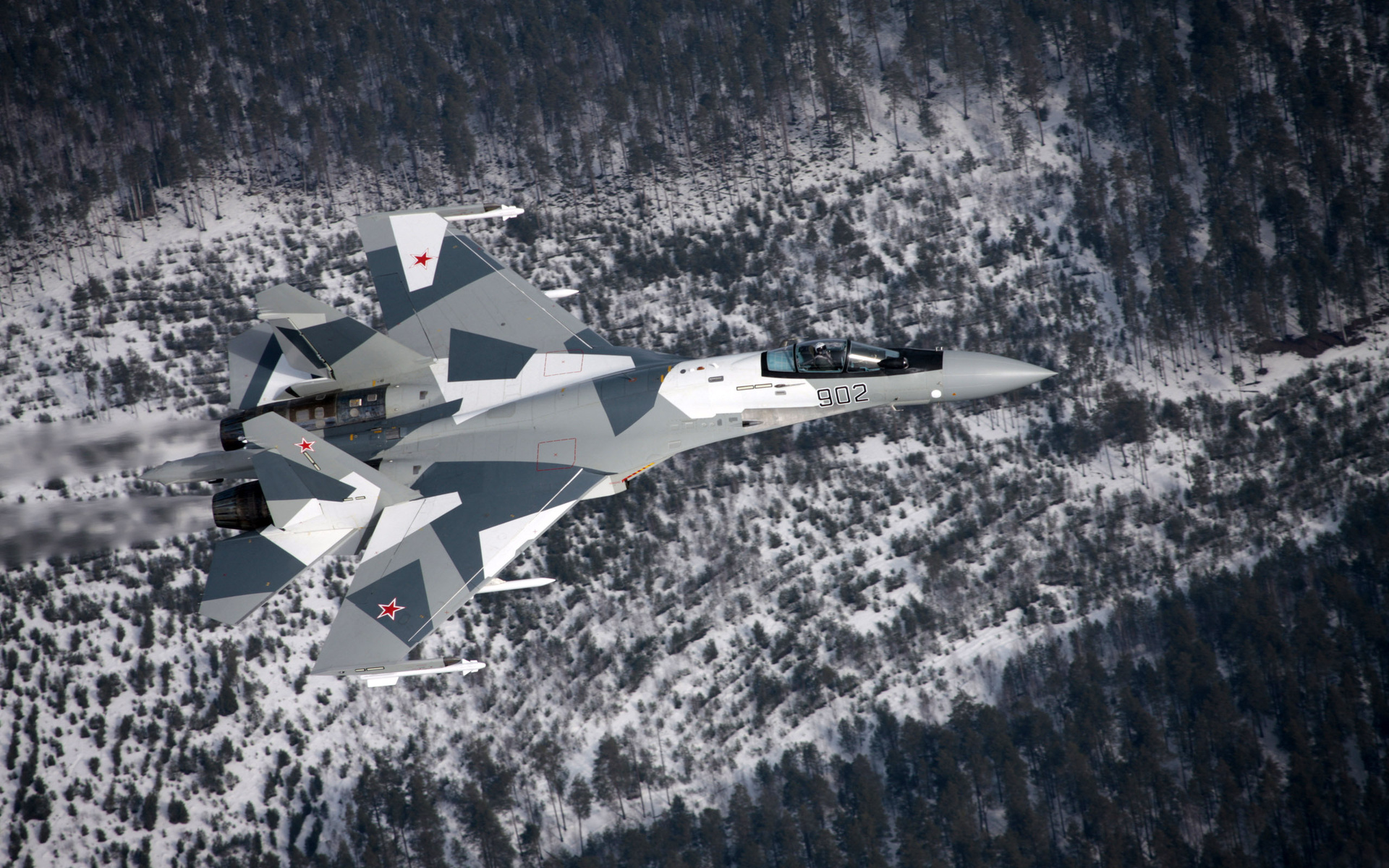Su35: (123, 190, 1066, 697)
